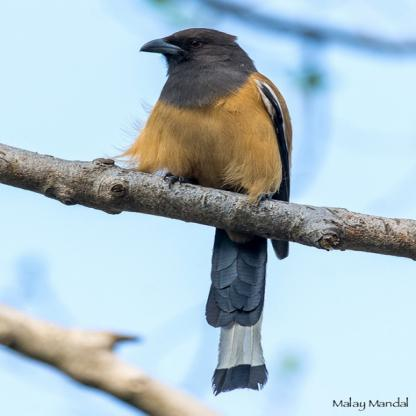Burung: (120, 28, 292, 393)
